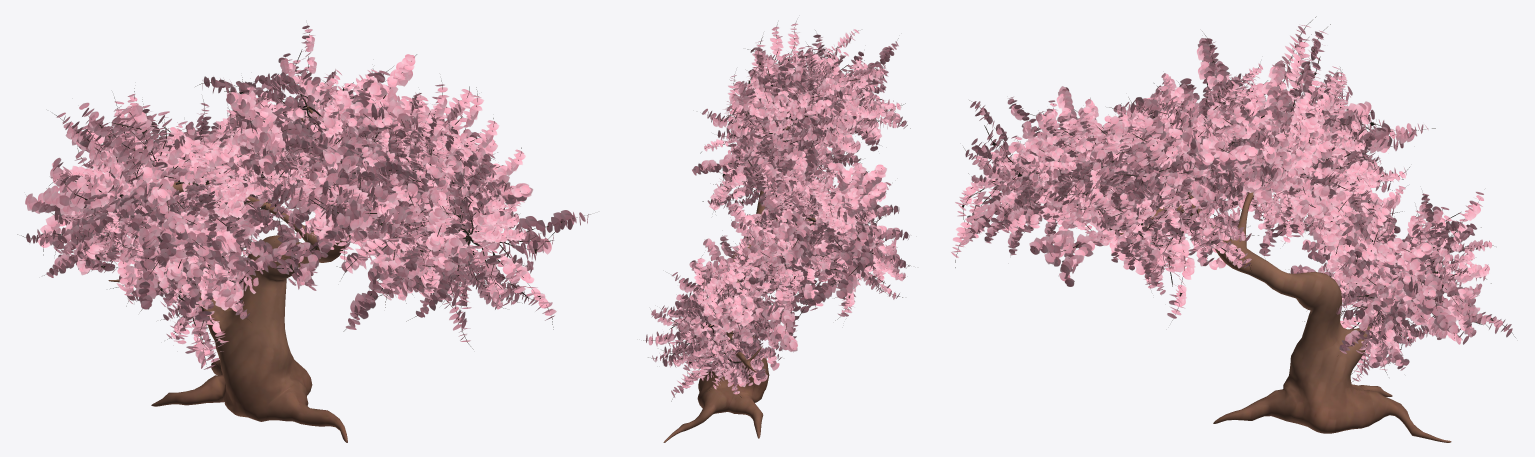
File: sakura.glb
3 renders of one model, left to right at view 1: azimuth 30°, elevation 25°; view 2: azimuth 150°, elevation 25°; view 3: azimuth 270°, elevation 25°, orthographic. The views are drawn at different scales.
Visible parts, largest first — view 1: Object_2, Object_40, Object_33, Object_4, Object_7, Object_34, Object_37, Object_6, Object_8, Object_12, Object_17, Object_5 (+30 smaller); view 2: Object_29, Object_4, Object_2, Object_13, Object_8, Object_28, Object_6, Object_14, Object_7, Object_19, Object_22, Object_20 (+30 smaller); view 3: Object_2, Object_27, Object_39, Object_26, Object_15, Object_14, Object_35, Object_19, Object_30, Object_20, Object_40, Object_25 (+31 smaller).
Boxes of the visible parts, x1,y1,x2,y2 form: Object_2: [108, 106, 461, 442]; Object_40: [123, 120, 519, 297]; Object_33: [368, 153, 526, 309]; Object_4: [58, 94, 234, 256]; Object_7: [26, 152, 248, 296]; Object_34: [318, 168, 556, 320]; Object_37: [273, 112, 522, 244]; Object_6: [25, 88, 272, 222]; Object_8: [37, 101, 312, 275]; Object_12: [160, 157, 340, 290]; Object_17: [194, 92, 400, 362]; Object_5: [88, 103, 212, 309]; Object_29: [739, 184, 847, 338]; Object_4: [810, 157, 886, 303]; Object_2: [663, 118, 815, 442]; Object_13: [651, 92, 831, 385]; Object_8: [772, 116, 886, 316]; Object_28: [709, 150, 817, 377]; Object_6: [755, 158, 875, 299]; Object_14: [652, 293, 773, 397]; Object_7: [809, 171, 909, 306]; Object_19: [721, 139, 831, 295]; Object_22: [710, 157, 836, 394]; Object_20: [646, 221, 834, 346]; Object_2: [1023, 101, 1451, 442]; Object_27: [1029, 136, 1362, 309]; Object_39: [965, 100, 1251, 318]; Object_26: [1029, 159, 1181, 294]; Object_15: [1174, 168, 1485, 381]; Object_14: [1349, 191, 1512, 370]; Object_35: [1083, 86, 1215, 215]; Object_19: [1256, 134, 1406, 267]; Object_30: [1231, 60, 1486, 324]; Object_20: [1271, 126, 1458, 333]; Object_40: [983, 86, 1286, 253]; Object_25: [1092, 38, 1242, 288].
Size of the model in its own units: 3.73 by 3.66 by 4.99.
3 materials, 2 textured.
